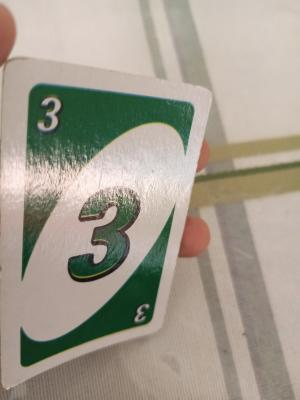num_3: (61, 180, 140, 289), (31, 89, 83, 151), (116, 294, 154, 326)
